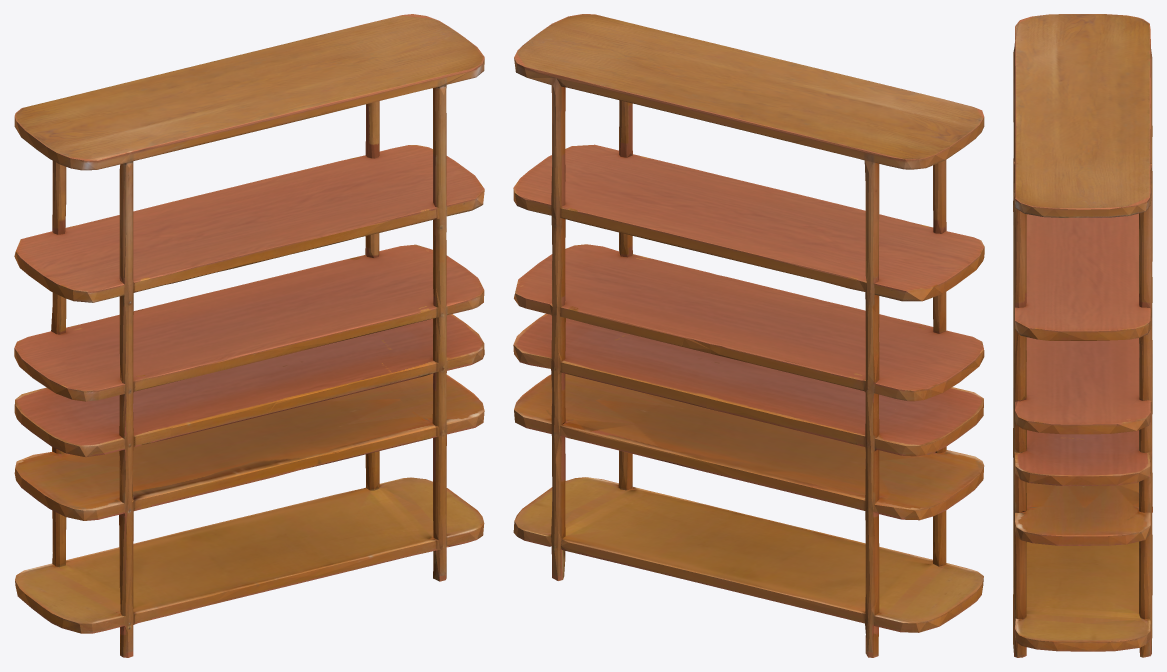
Rendered from 1950s_hung_shelves__0401221808_texture.fbx.
3 views of the same model, side by side, from view 1: azimuth 30°, elevation 25°; view 2: azimuth 150°, elevation 25°; view 3: azimuth 270°, elevation 25° (orthographic). The views are drawn at different scales.
Visible parts, largest first — view 1: temp; view 2: temp; view 3: temp.
Part boxes in pixels (<box>): temp: <box>14,14,484,657</box>; temp: <box>513,14,984,657</box>; temp: <box>1013,14,1152,657</box>.
Size of the model in its own units: 177 by 200 by 53.59.
Materials: 1 (1 with a texture image).
